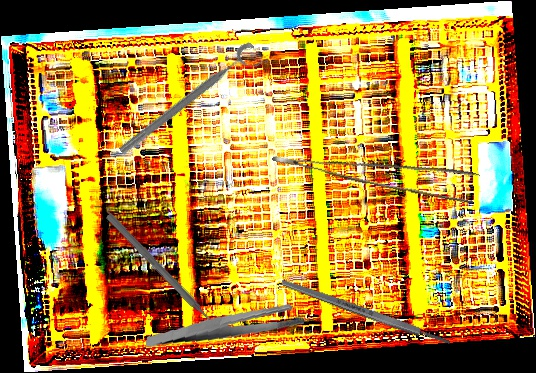Dressing Forceps: (145, 292, 306, 361)
Fixation Ring: (115, 39, 266, 167)
Pusher: (103, 211, 231, 342)
Scalpel Handle: (280, 277, 452, 348)
Tissue Forceps: (271, 121, 481, 214)
